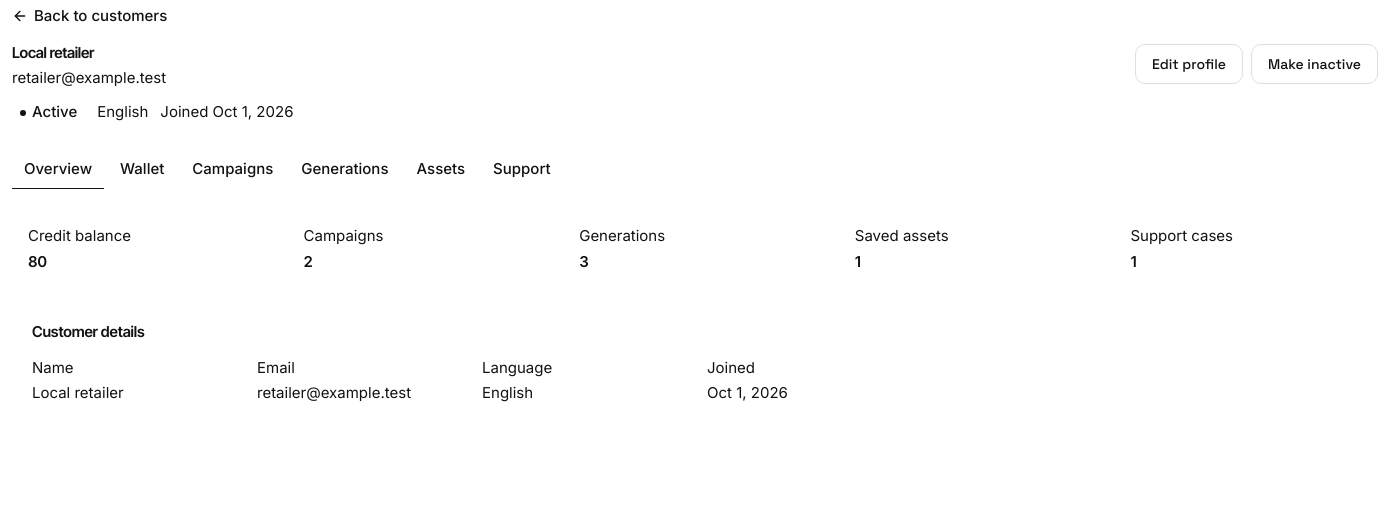
Scenario: customer workspace › shows basic details and keeps full wallet pagination inside the customer
The image size is (1390, 526).
Later steps or results of the test are not shown.
Expected: the heading "Local retailer" is shown, [12, 43, 94, 62]
Click the tab "Wallet" at (142, 170), box [108, 150, 176, 190]
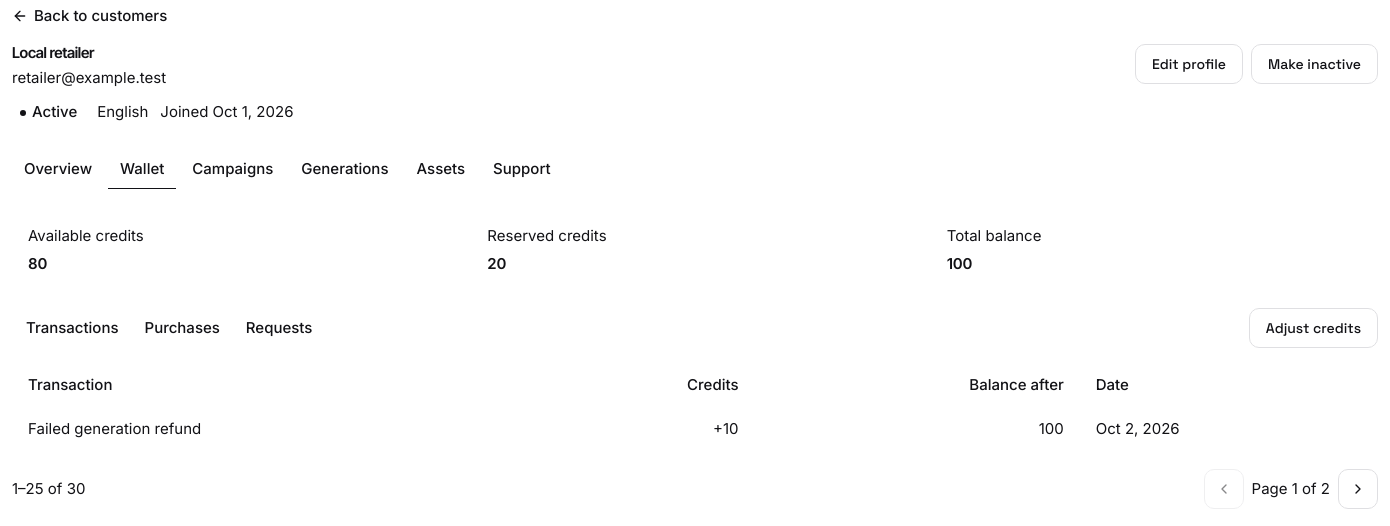
Expected: the text "Failed generation refund" is shown, [12, 406, 540, 453]
